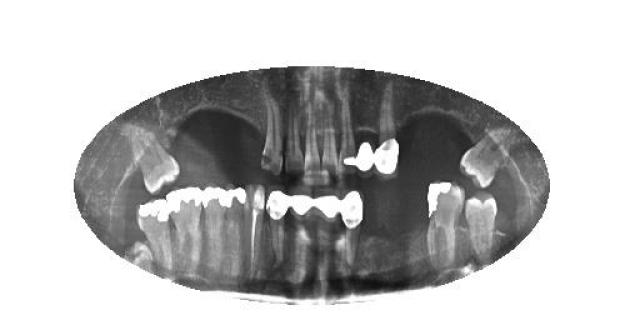Fillings: (425, 181, 466, 264), (168, 182, 202, 280), (138, 200, 178, 274), (202, 184, 230, 278), (265, 189, 290, 281), (224, 186, 250, 274), (370, 114, 402, 184), (290, 194, 316, 275), (314, 191, 340, 269), (337, 190, 362, 271), (337, 96, 358, 178), (355, 136, 374, 179)
